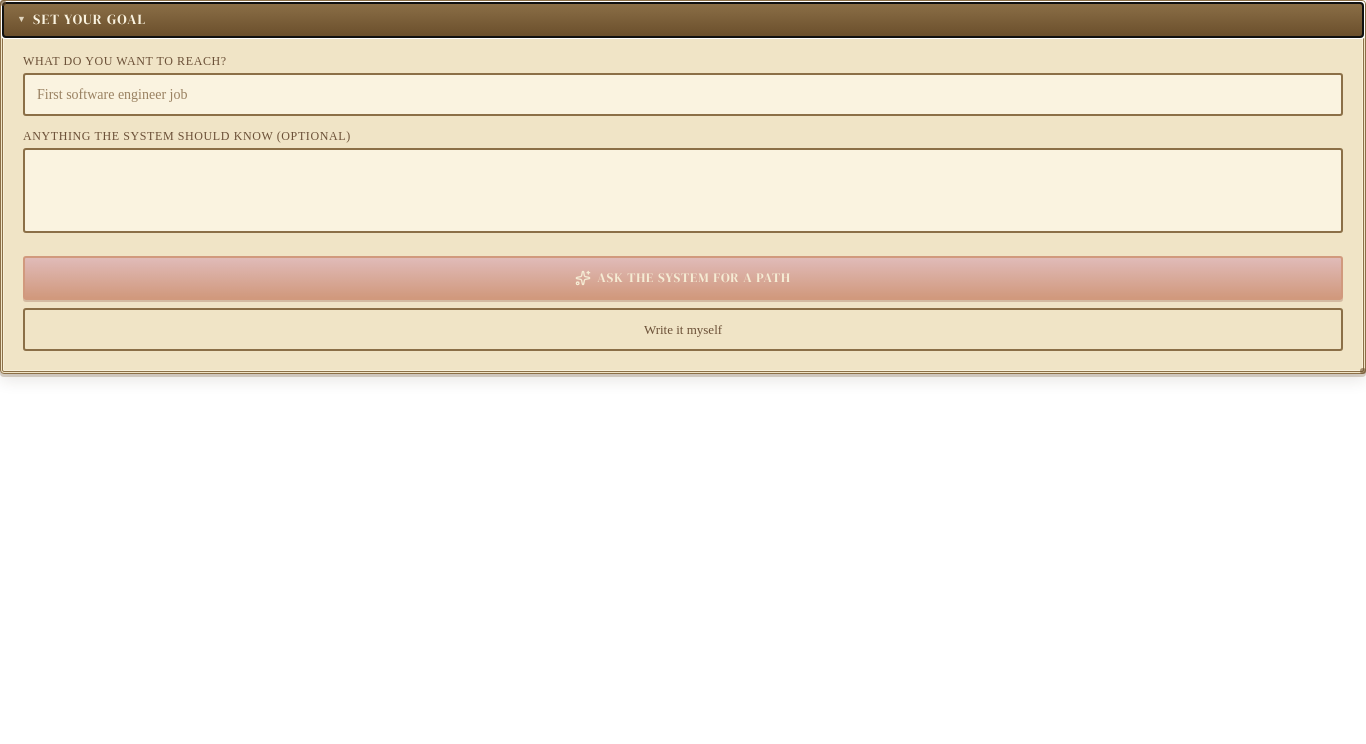
Scenario: PathDraftEditor › lets the user write a path without asking the System at all
The width and height of the screenshot is (1366, 744).
Click the button "Write it myself" at (683,329), box 23,308 -> 1343,351
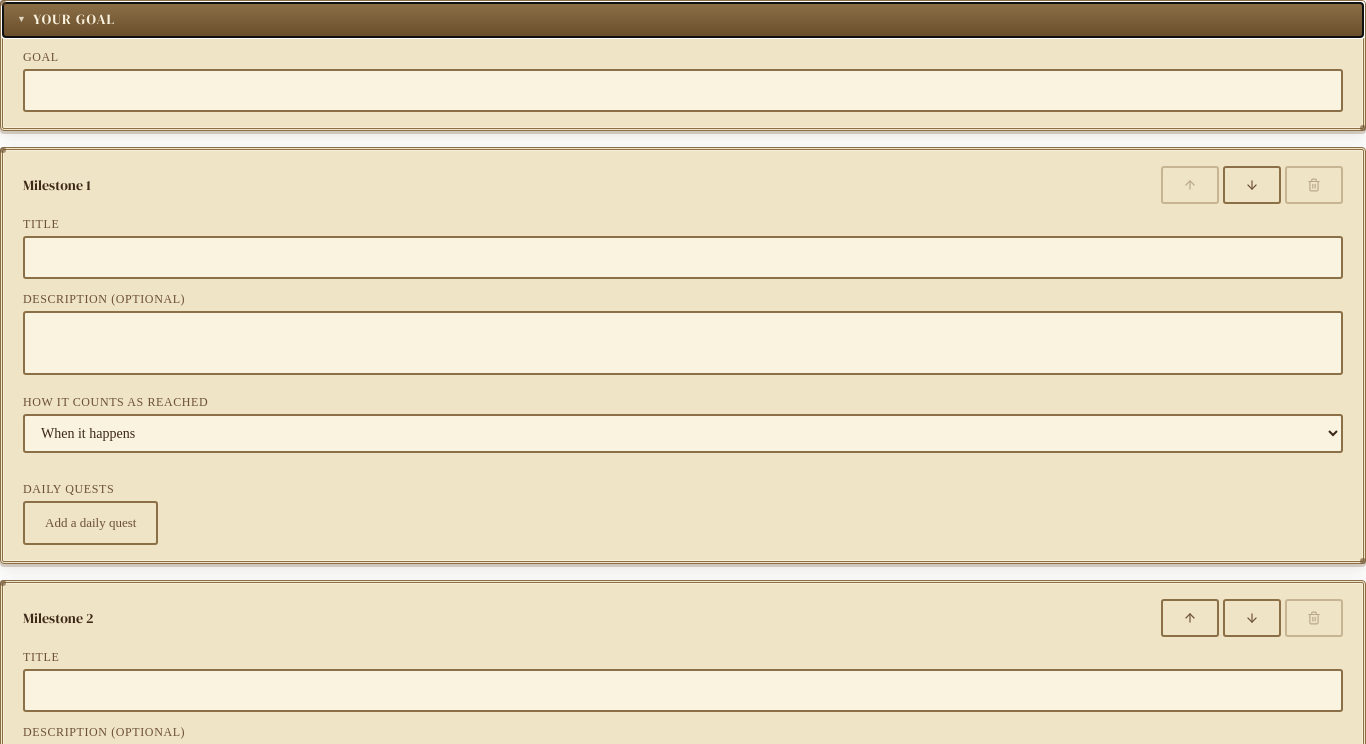
Expected: the number of headings "Milestone 1" is 3
